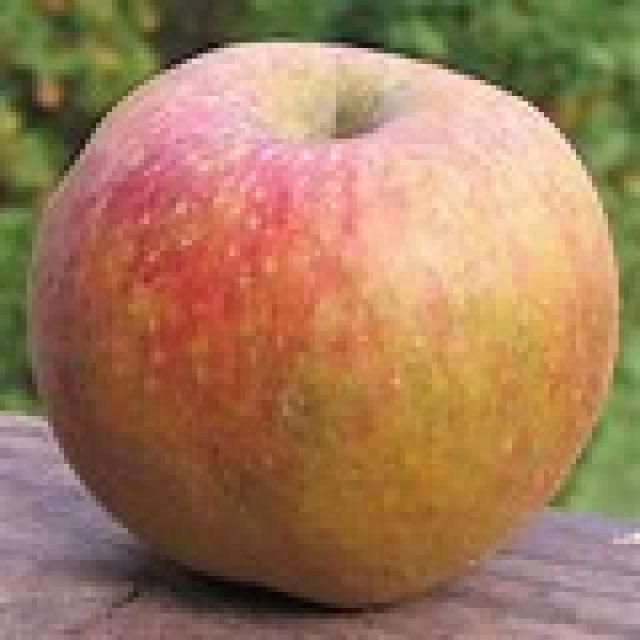apple: (24, 37, 625, 609)
